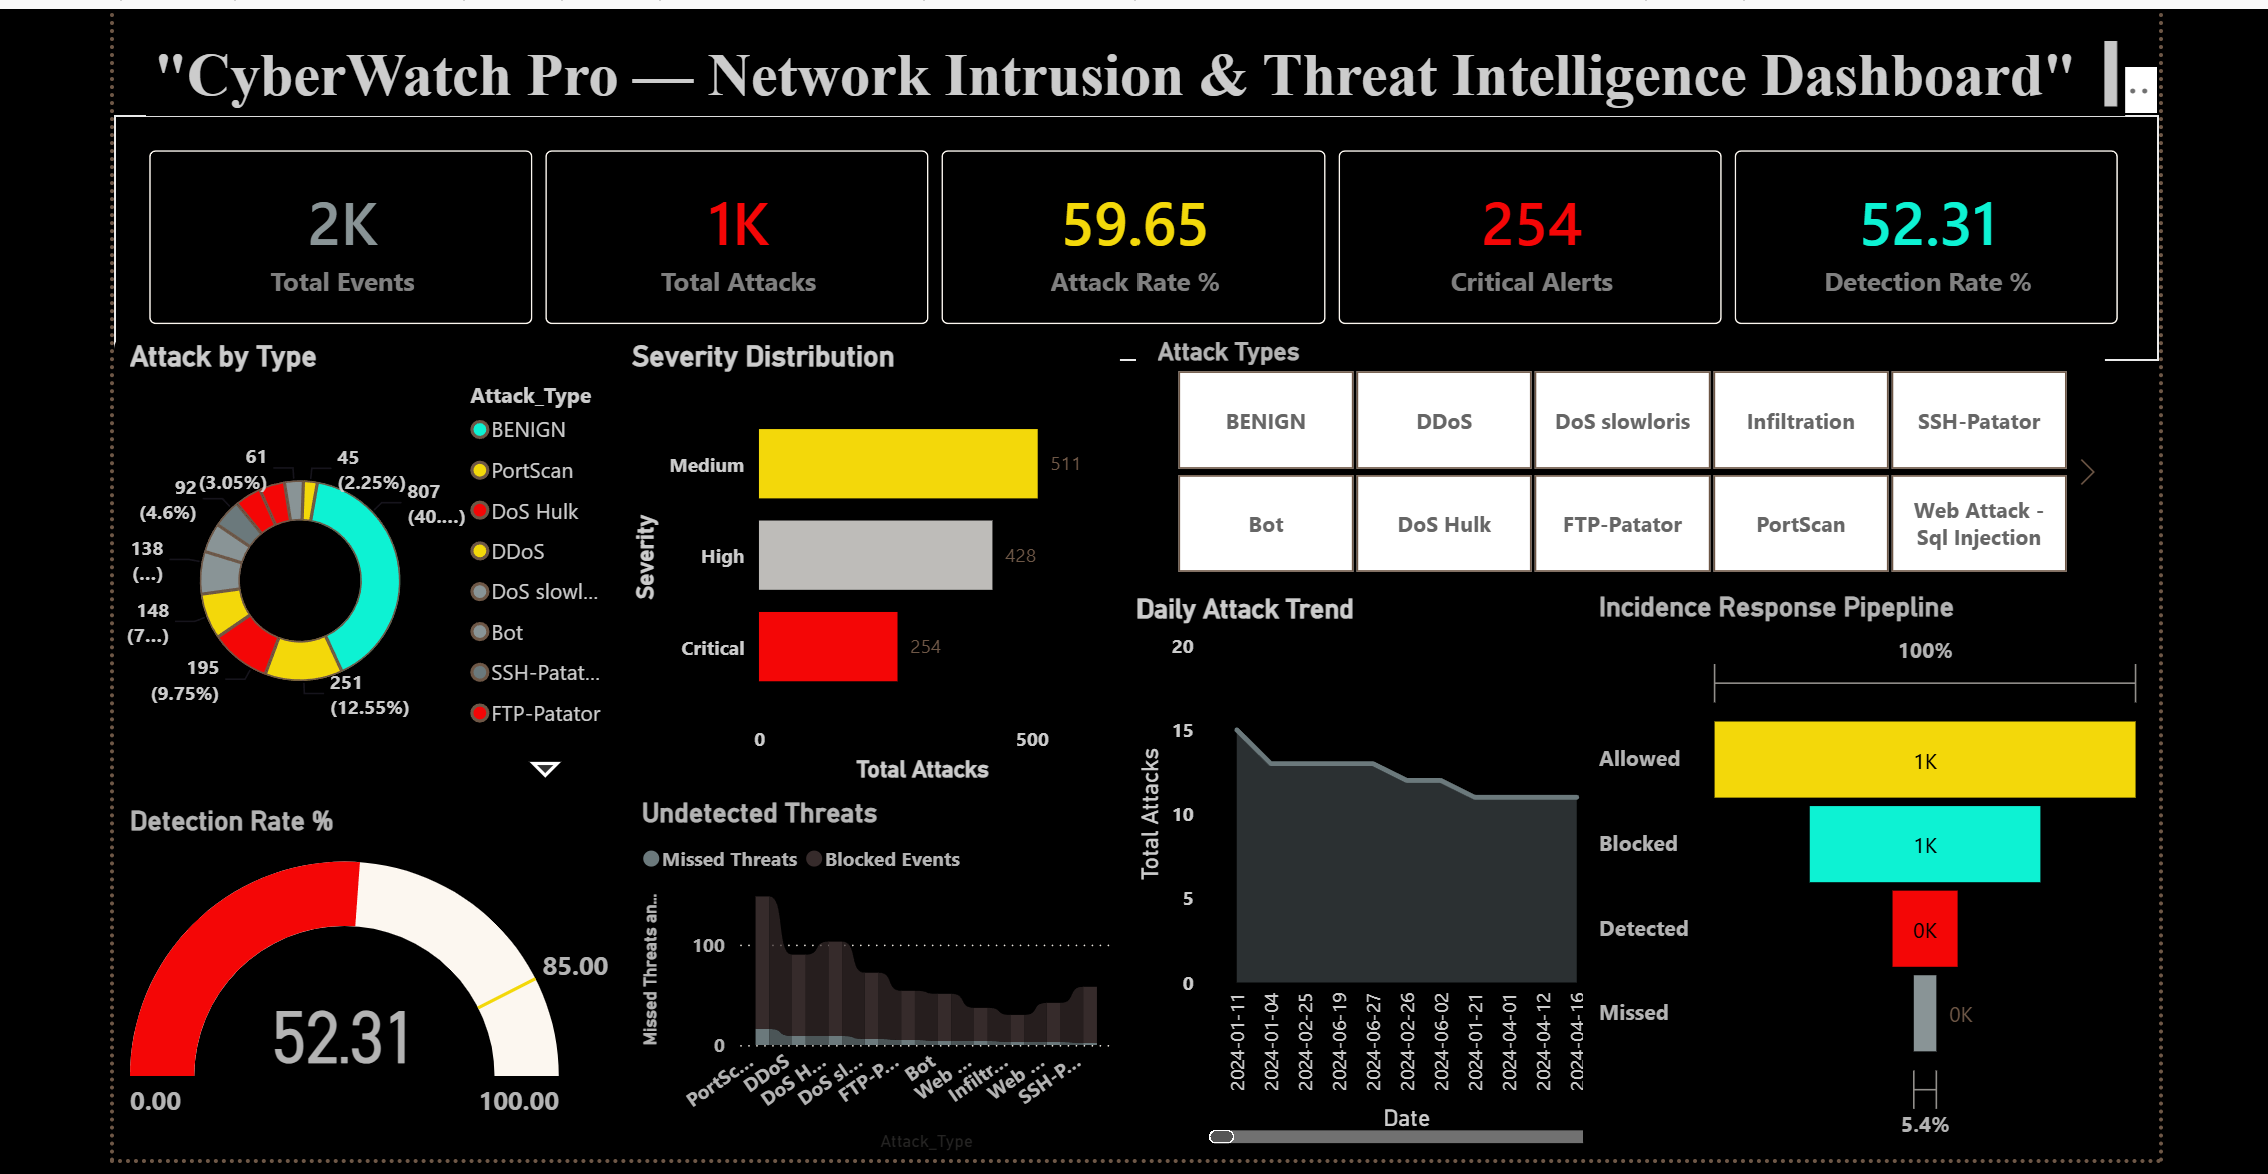

Layout of this report page (visuals, bound fields, positions):
{"tool":"powerbi","page":{"name":"\"Overview\"","canvas":[1280,720],"ordinal":0},"visuals":[{"type":"cardVisual","fields":{"Data":["CyberWatch_Dataset.Total Events","CyberWatch_Dataset.Total Attacks","CyberWatch_Dataset.Attack Rate %","CyberWatch_Dataset.Critical Alerts","CyberWatch_Dataset.Detection Rate %"]},"box":[0,66.7,1280,153.2],"z":0},{"type":"donutChart","title":" Attack by Type","fields":{"Y":["CountNonNull(CyberWatch_Dataset.Session_ID)"],"Category":["CyberWatch_Dataset.Attack_Type"]},"box":[0,201.6,325,292.1],"z":1000},{"type":"barChart","title":"Severity Distribution","fields":{"Category":["CyberWatch_Dataset.Severity"],"Y":["CyberWatch_Dataset.Total Attacks"]},"box":[314.1,201.6,315.4,292.1],"z":2000},{"type":"lineChart","title":"Daily Attack Trend","fields":{"Category":["CyberWatch_Dataset.Date"],"Y":["CyberWatch_Dataset.Total Attacks"]},"box":[629.4,360.9,312.4,359.4],"z":3000},{"type":"textbox","box":[0,15.7,1258.6,51.4],"z":4000},{"type":"funnel","title":"Incidence Response Pipepline","fields":{"Category":["CyberWatch_Dataset.Status"],"Y":["CyberWatch_Dataset.Total Events"]},"box":[919.1,359.4,360.9,360.9],"z":5000},{"type":"gauge","fields":{"Y":["CyberWatch_Dataset.Detection Rate %"]},"box":[0,493.7,325,227.7],"z":6000},{"type":"slicer","fields":{"Values":["CyberWatch_Dataset.Attack_Type"]},"box":[630,200,630,160],"z":7000},{"type":"ribbonChart","title":"Undetected Threats","fields":{"Category":["CyberWatch_Dataset.Attack_Type"],"Y":["CyberWatch_Dataset.Missed Threats","CyberWatch_Dataset.Blocked Events"]},"box":[325,493.7,304.5,226.3],"z":8000}]}

Visuals, with their boxes on the page's 1280x720 design canvas (x1, y1, x2, y2). These are canvas units, not pixel positions in the 2268x1174 screenshot, which may show the page scaled, cropped or inside an application window:
cardVisual - CyberWatch_Dataset.Total Events x CyberWatch_Dataset.Total Attacks: bbox=(0, 67, 1280, 220)
" Attack by Type" donutChart: bbox=(0, 202, 325, 494)
"Severity Distribution" barChart: bbox=(314, 202, 630, 494)
"Daily Attack Trend" lineChart: bbox=(629, 361, 942, 720)
textbox: bbox=(0, 16, 1259, 67)
"Incidence Response Pipepline" funnel: bbox=(919, 359, 1280, 720)
gauge - CyberWatch_Dataset.Detection Rate %: bbox=(0, 494, 325, 721)
slicer - CyberWatch_Dataset.Attack_Type: bbox=(630, 200, 1260, 360)
"Undetected Threats" ribbonChart: bbox=(325, 494, 630, 720)
